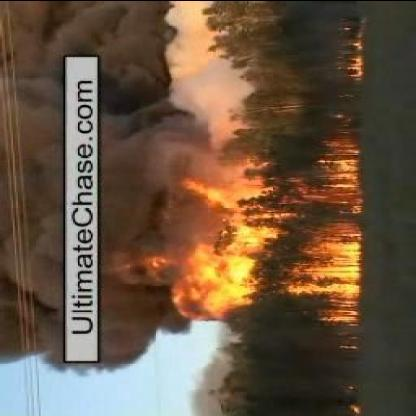-: (102, 37, 168, 328), (5, 56, 60, 365)
foggia-v2-map80-epoch100 - v1 4323: (295, 239, 361, 292)
